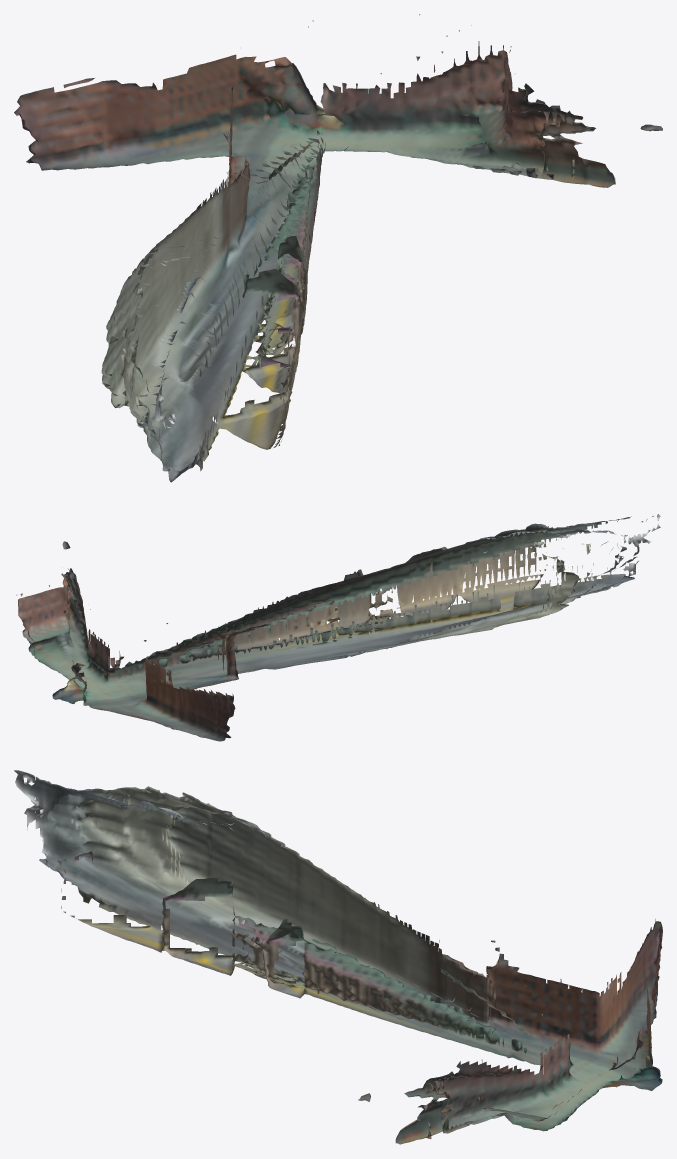
File: nighthawks.glb
3 views of the same model, one above another, from view 1: azimuth 30°, elevation 25°; view 2: azimuth 150°, elevation 25°; view 3: azimuth 270°, elevation 25° (orthographic). The views are drawn at different scales.
Parts seen in each view (by area): view 1: world; view 2: world; view 3: world.
Boxes of the visible parts, x1,y1,x2,y2 form: world: (14, 14, 662, 482); world: (16, 512, 662, 741); world: (14, 770, 662, 1144).
Size of the model in its own units: 132 by 26.92 by 129.
